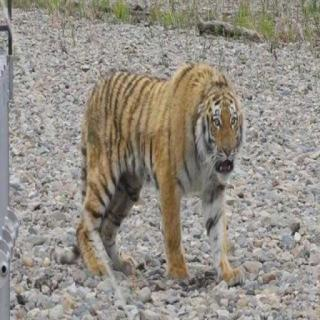Tiger: (43, 56, 259, 296)
